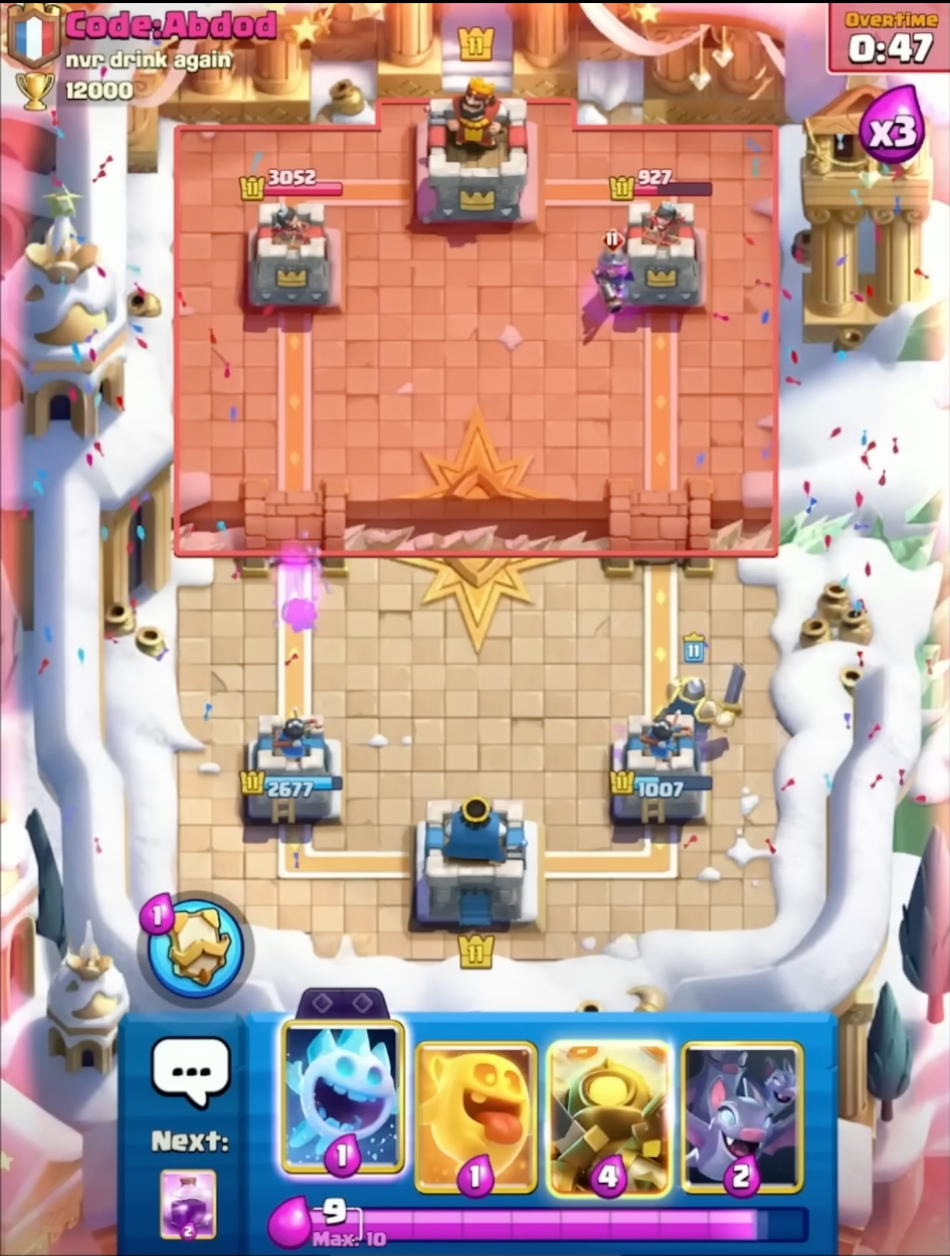evo-musketeer: (588, 224, 636, 314)
